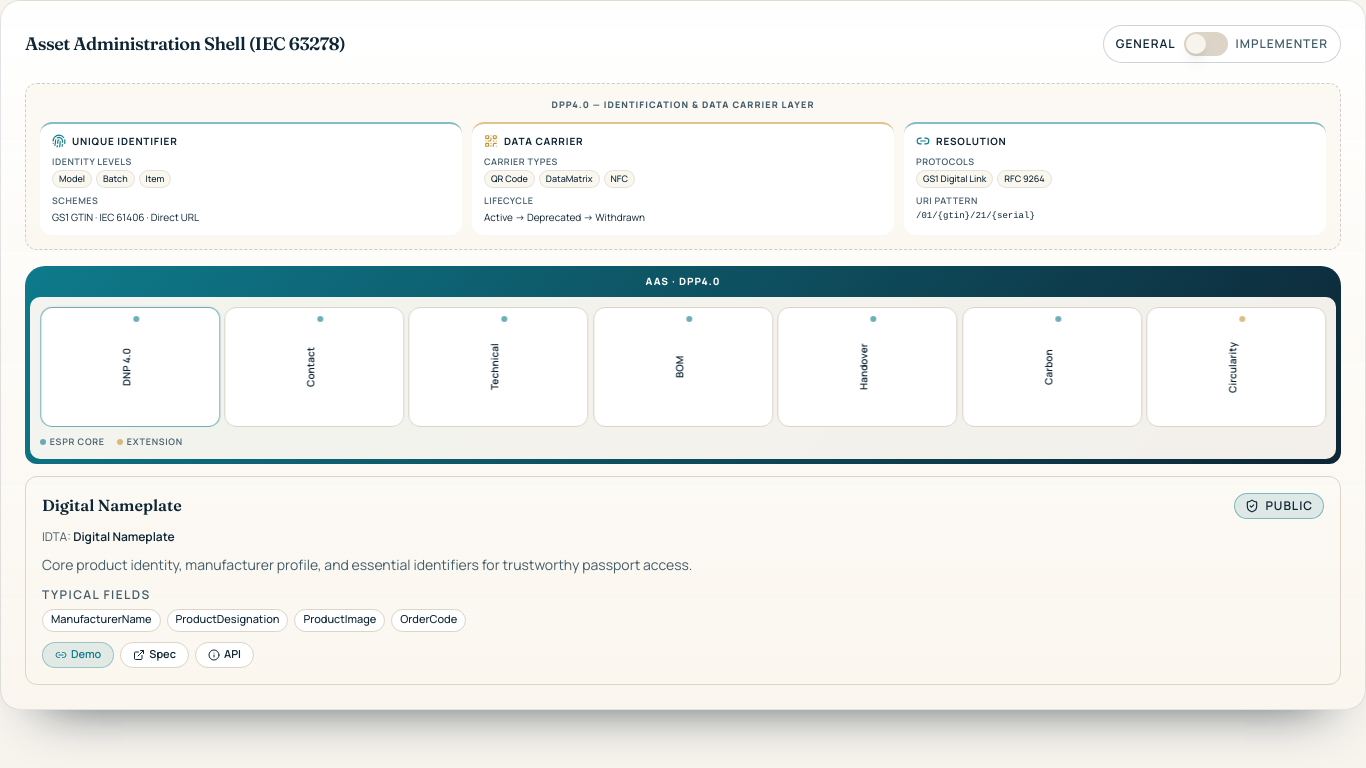
Test: DppCompactModel › defaults to Digital Nameplate content and switches tabs
expect the heading "Digital Nameplate" is shown: met, box x1=42 y1=494 x2=182 y2=518
Click the tab "Carbon" at (1052, 367), box x1=962 y1=307 x2=1142 y2=427
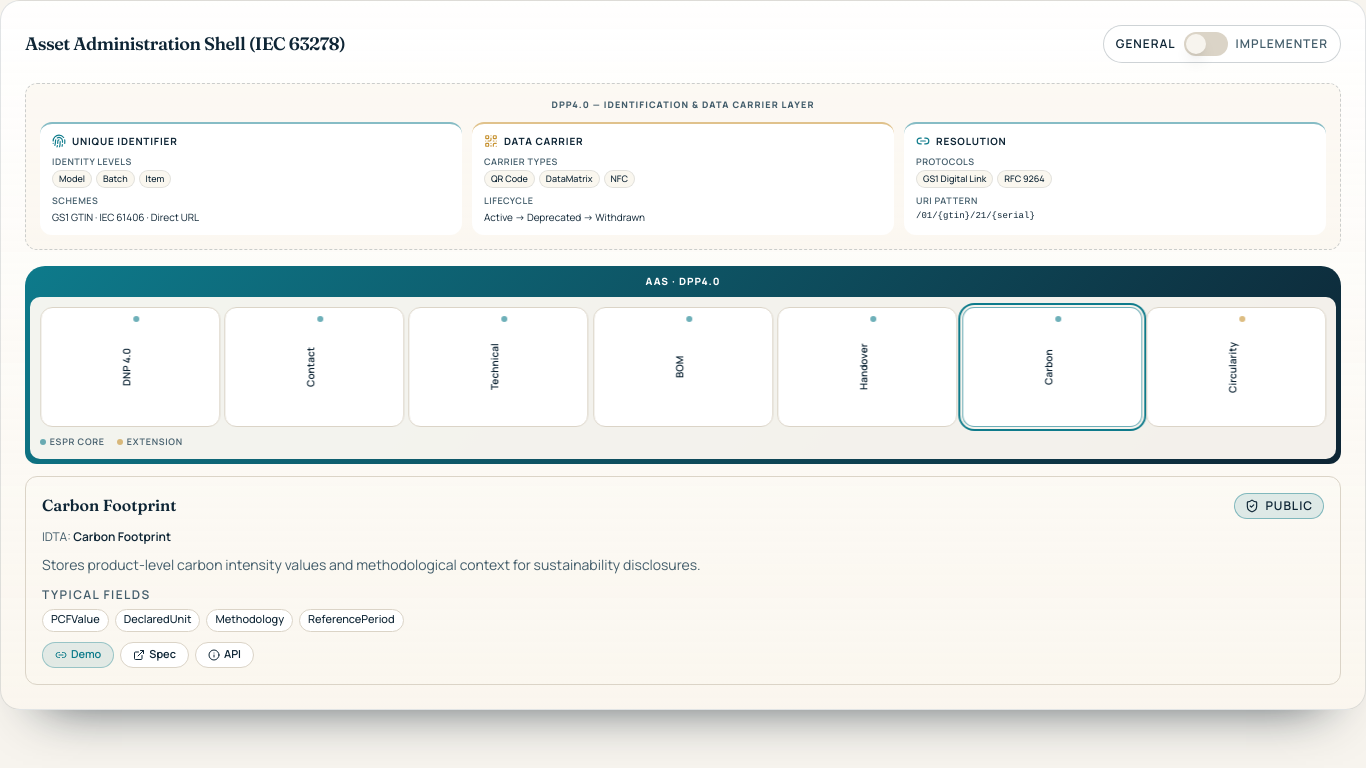
expect the text "Public" is shown: met, box x1=1234 y1=492 x2=1324 y2=518
expect the heading "Carbon Footprint" is shown: met, box x1=42 y1=494 x2=177 y2=518
